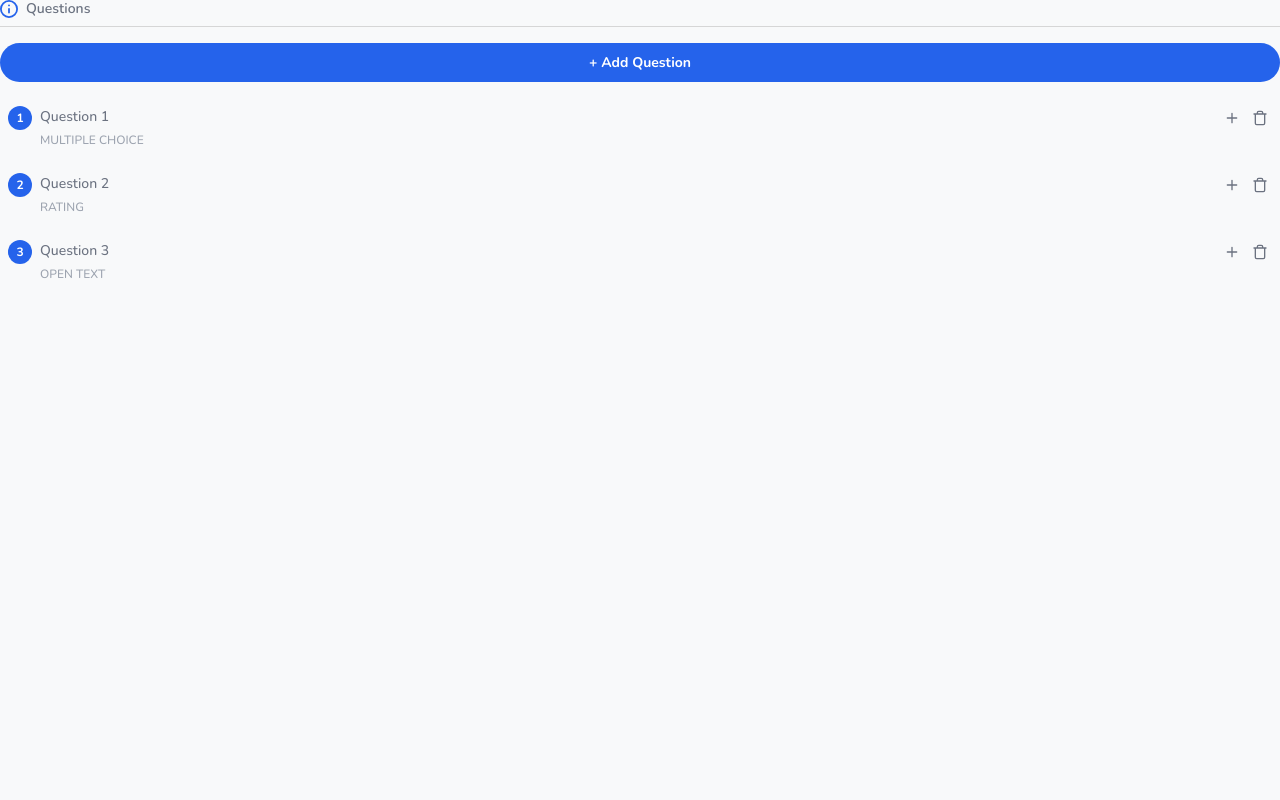
Test: QuestionList (Molecule) › Add question › should show form when add button clicked
Click the button "+ Add Question".
click(640, 62)  # box left=0, top=43, right=1279, bottom=82
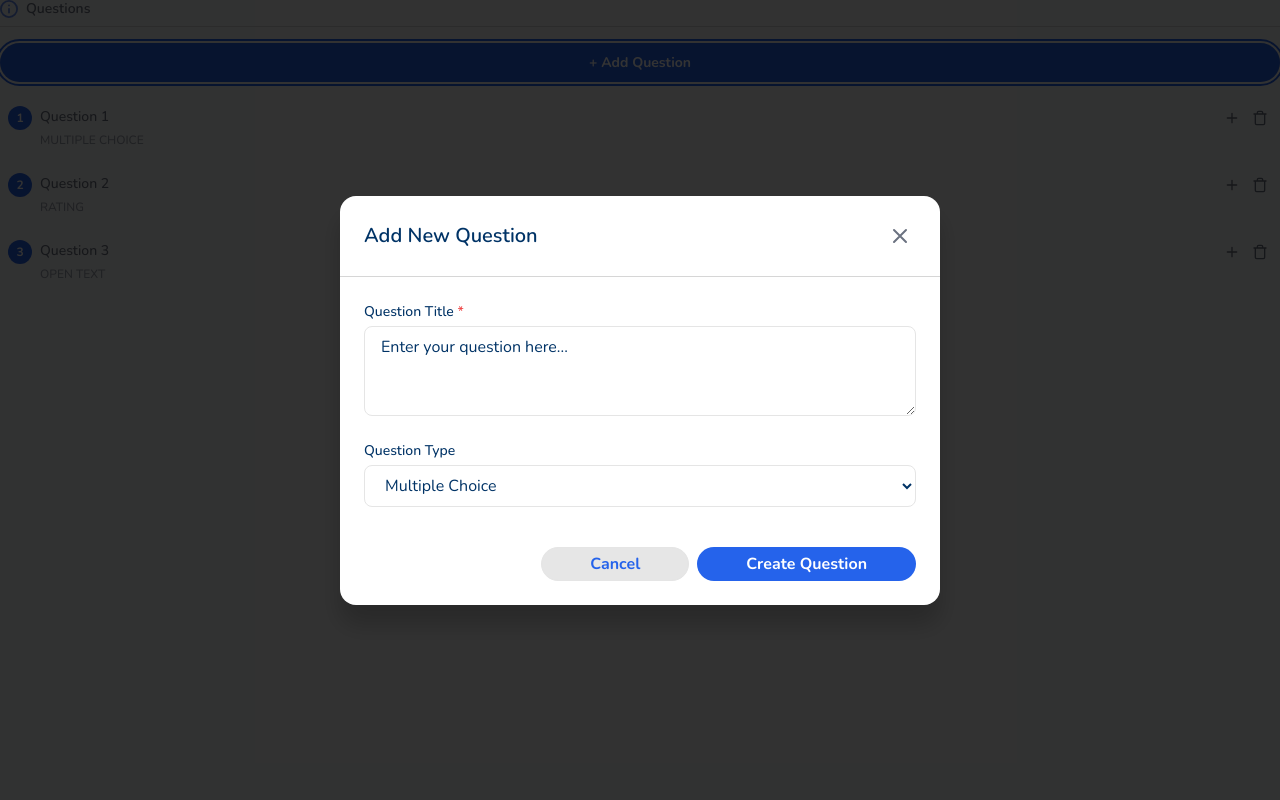
Now the text box labelled "Question Title *" is shown, box left=364, top=326, right=916, bottom=416
